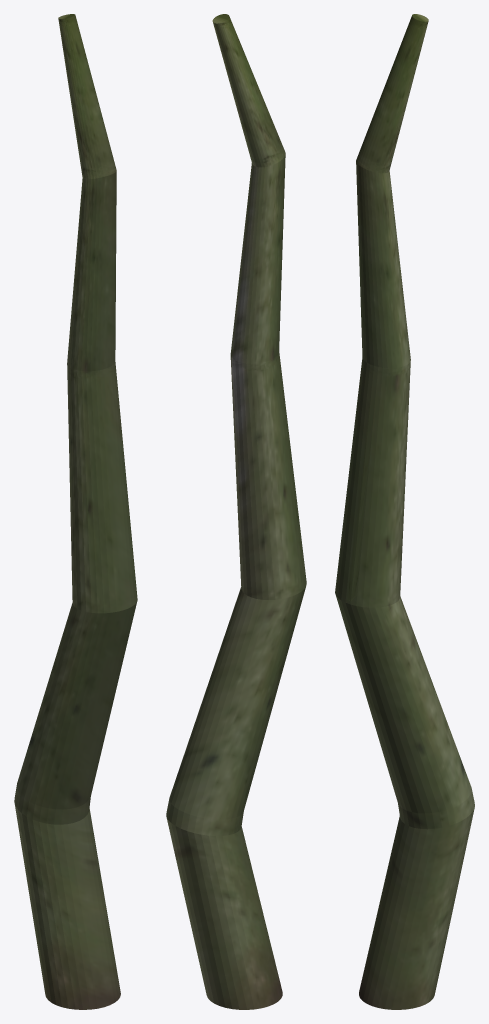
File: Stem2.obj
3 renders of one model, left to right at view 1: azimuth 90°, elevation 25°; view 2: azimuth 150°, elevation 25°; view 3: azimuth 330°, elevation 25°, orthographic.
Visible parts, largest first — view 1: Stem.002_Cylinder.002; view 2: Stem.002_Cylinder.002; view 3: Stem.002_Cylinder.002.
Boxes of the visible parts, x1=… form: Stem.002_Cylinder.002: x1=14, y1=14, x2=137, y2=1009; Stem.002_Cylinder.002: x1=166, y1=14, x2=306, y2=1009; Stem.002_Cylinder.002: x1=335, y1=14, x2=474, y2=1009.
Size of the model in its own units: 0.3437 by 3.08 by 0.3537.
Materials: 1 (1 with a texture image).
